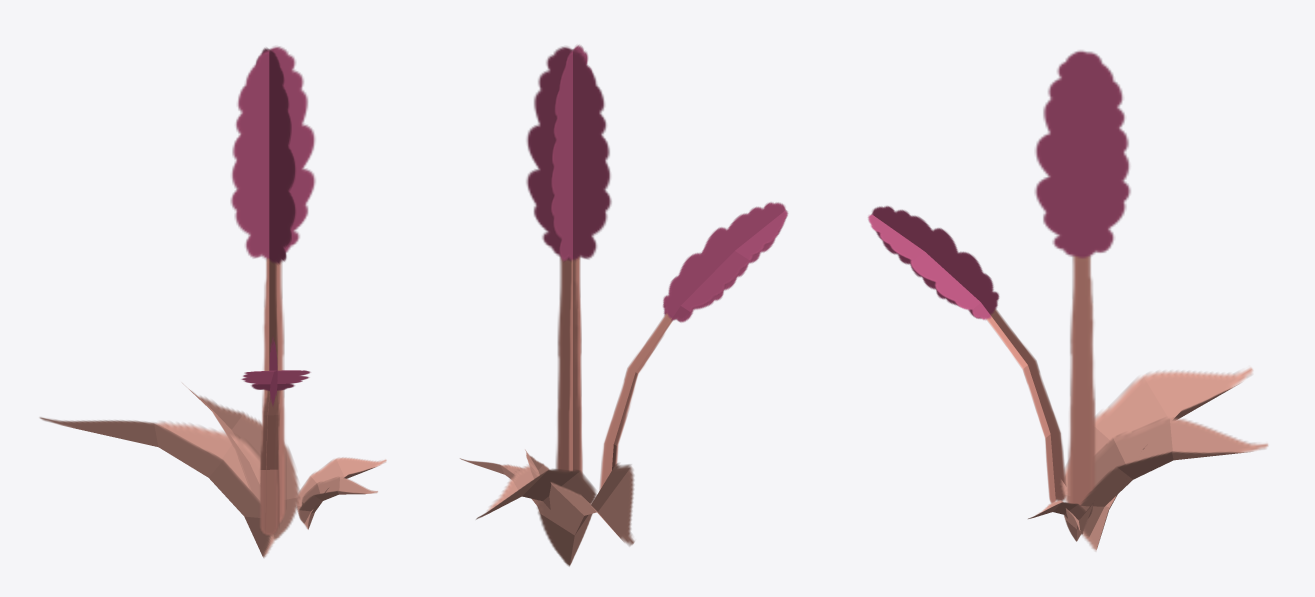
File: P_Flowers.glb
3 views of the same model, side by side, from view 1: azimuth 30°, elevation 25°; view 2: azimuth 150°, elevation 25°; view 3: azimuth 270°, elevation 25° (orthographic). The views are drawn at different scales.
Visible parts, largest first — view 1: P_Flowers; view 2: P_Flowers; view 3: P_Flowers.
Part boxes in pixels (x1,y1,x2,y2): P_Flowers: (39,46,386,557); P_Flowers: (460,45,788,566); P_Flowers: (868,50,1268,551).
Size of the model in its own units: 0.8589 by 1.47 by 1.14.
Materials: 1 (1 with a texture image).
